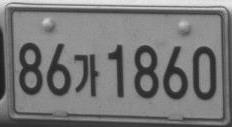0: (192, 45, 217, 100)
1: (105, 44, 131, 97)
6: (162, 45, 188, 100), (46, 43, 71, 96)
8: (133, 44, 159, 99), (17, 41, 43, 95)
가: (73, 53, 98, 96)
